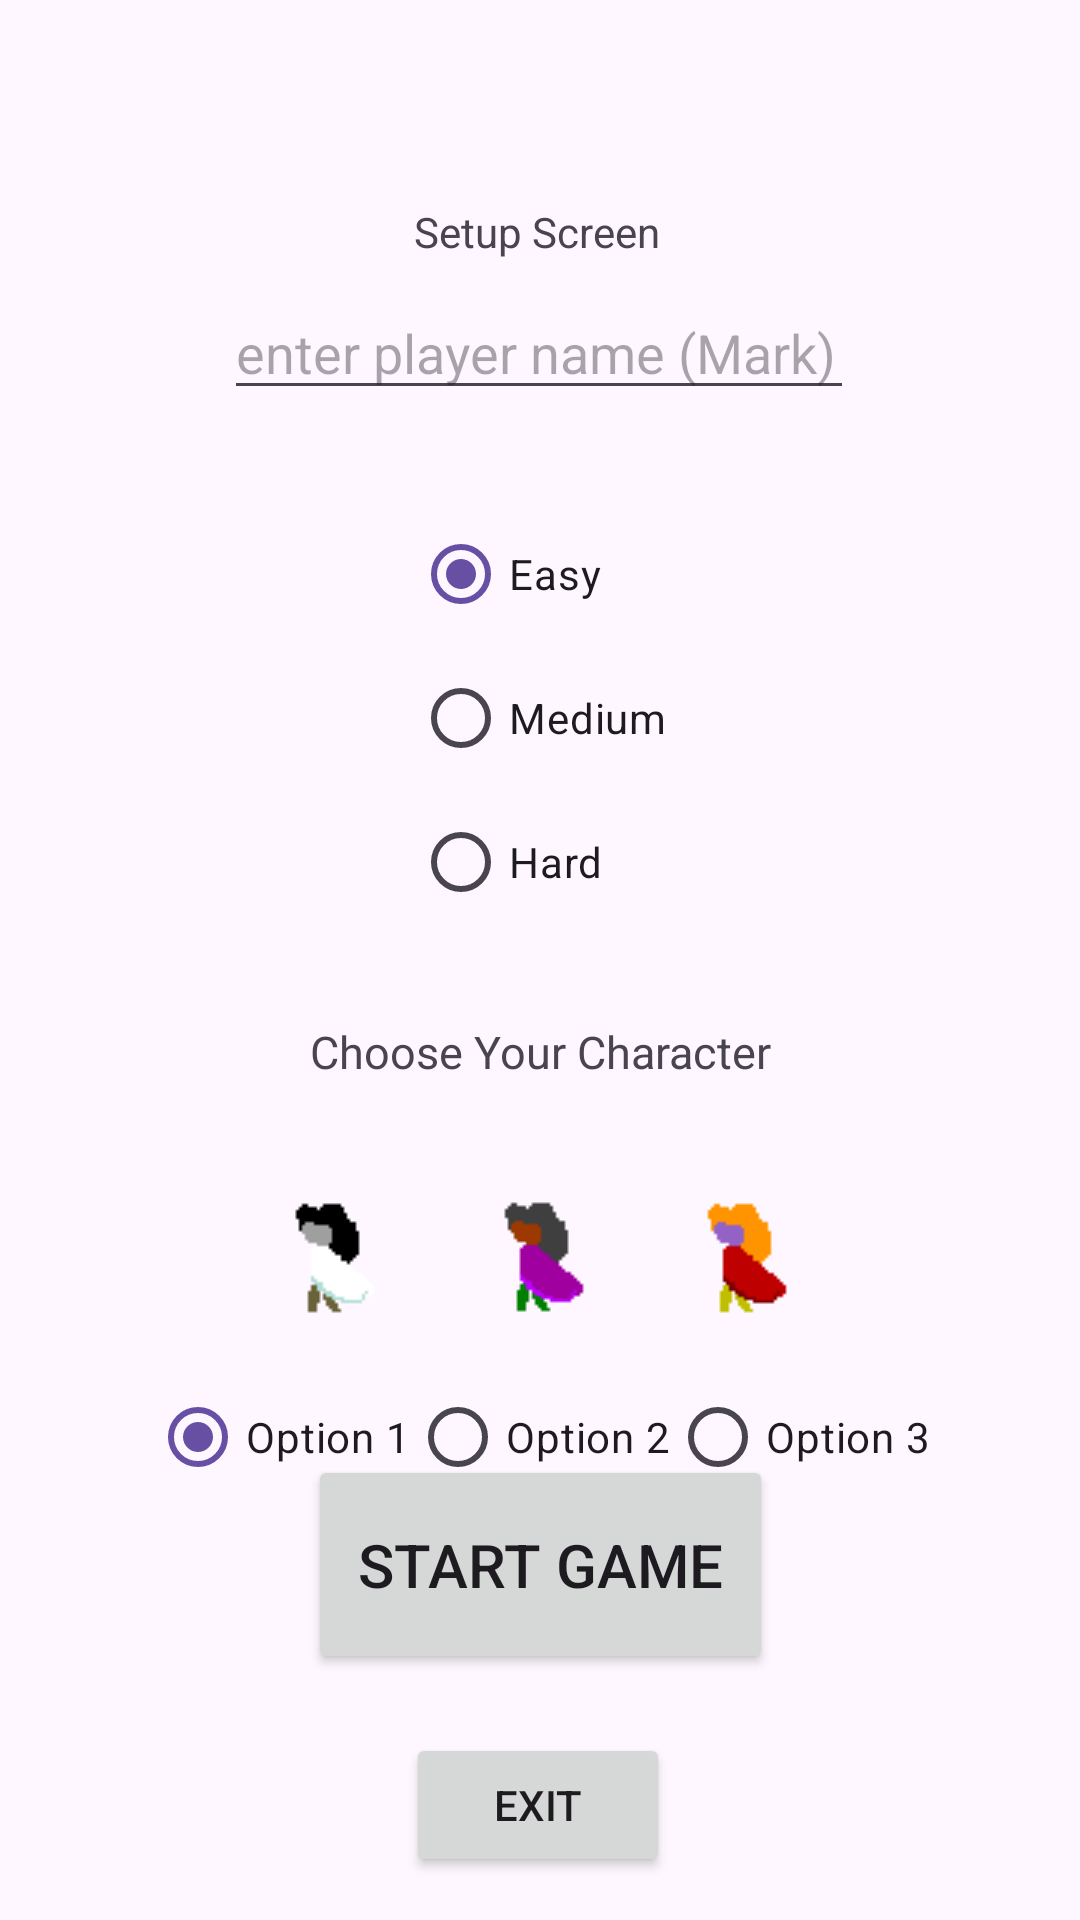

Locate icon controls on the screen. Image size 1080x1920, boxes as (x1, y1, x2, y2).
player: (504, 1202, 584, 1312), (295, 1203, 368, 1313), (707, 1203, 787, 1313)
